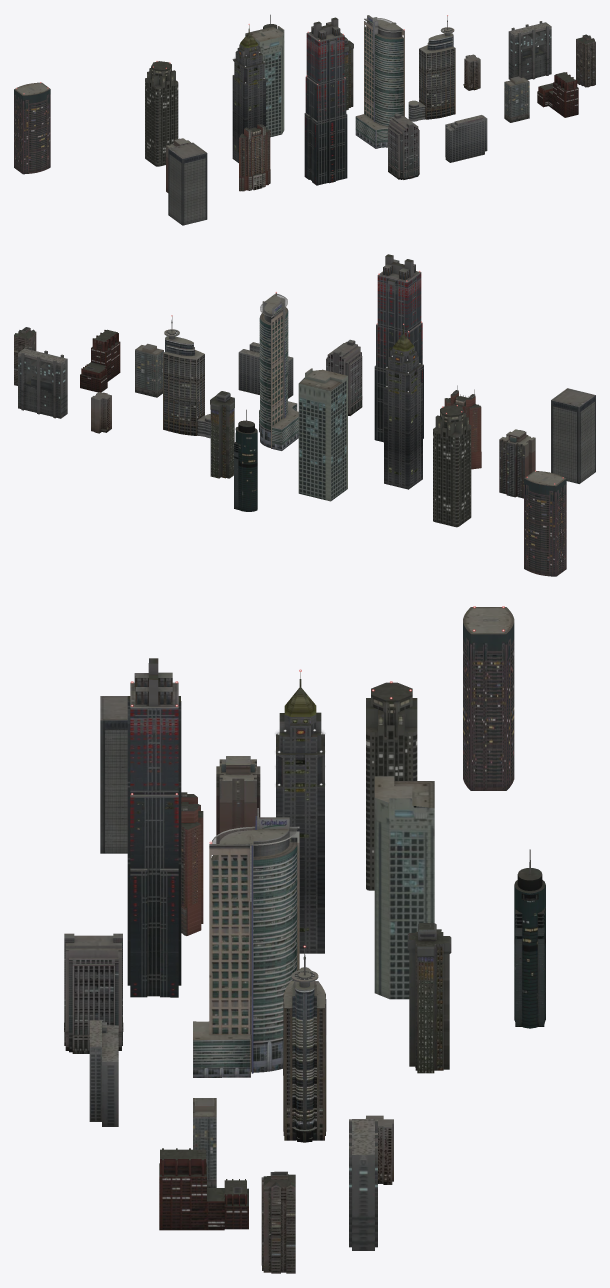
Rendered from asian_themed_low_poly_night_city_buildings.glb.
The picture shows the model from 3 angles, top to bottom: view 1: azimuth 30°, elevation 25°; view 2: azimuth 150°, elevation 25°; view 3: azimuth 270°, elevation 25°; orthographic projection. The views are drawn at different scales.
Visible parts, largest first — view 1: BACKGROUND_BUILDINGS_1.009, BACKGROUND_BUILDING_2, BACKGROUND_BUILDINGS_1, BACKGROUND_BUILDINGS_1.007, BACKGROUND_BUILDING_2.008, BACKGROUND_BUILDINGS_1.008, BACKGROUND_BUILDINGS_1.002, BACKGROUND_BUILDING_2.007, BACKGROUND_BUILDING_2.005, BACKGROUND_BUILDINGS_1.004, BACKGROUND_BUILDING_2.001, BACKGROUND_BUILDING_2.002 (+5 smaller); view 2: BACKGROUND_BUILDING_2.007, BACKGROUND_BUILDINGS_1.008, BACKGROUND_BUILDINGS_1.009, BACKGROUND_BUILDING_2, BACKGROUND_BUILDING_2.008, BACKGROUND_BUILDINGS_1.007, BACKGROUND_BUILDINGS_1, BACKGROUND_BUILDINGS_1.002, BACKGROUND_BUILDING_2.005, BACKGROUND_BUILDINGS_1.001, BACKGROUND_BUILDINGS_1.003, BACKGROUND_BUILDINGS_1.006 (+7 smaller); view 3: BACKGROUND_BUILDING_2, BACKGROUND_BUILDINGS_1.009, BACKGROUND_BUILDING_2.007, BACKGROUND_BUILDINGS_1.007, BACKGROUND_BUILDINGS_1.008, BACKGROUND_BUILDINGS_1, BACKGROUND_BUILDING_2.001, BACKGROUND_BUILDINGS_1.006, BACKGROUND_BUILDING_2.004, BACKGROUND_BUILDING_2.008, BACKGROUND_BUILDINGS_1.001, BACKGROUND_BUILDINGS_1.002 (+7 smaller).
Boxes of the visible parts, bbox=[...] form: BACKGROUND_BUILDINGS_1.009: bbox=[304, 17, 347, 185]; BACKGROUND_BUILDING_2: bbox=[355, 15, 404, 148]; BACKGROUND_BUILDINGS_1: bbox=[408, 16, 455, 121]; BACKGROUND_BUILDINGS_1.007: bbox=[14, 82, 50, 174]; BACKGROUND_BUILDING_2.008: bbox=[145, 61, 178, 166]; BACKGROUND_BUILDINGS_1.008: bbox=[232, 25, 265, 162]; BACKGROUND_BUILDINGS_1.002: bbox=[168, 142, 207, 225]; BACKGROUND_BUILDING_2.007: bbox=[245, 26, 284, 137]; BACKGROUND_BUILDING_2.005: bbox=[508, 21, 551, 80]; BACKGROUND_BUILDINGS_1.004: bbox=[239, 124, 270, 191]; BACKGROUND_BUILDING_2.001: bbox=[388, 113, 419, 179]; BACKGROUND_BUILDING_2.002: bbox=[445, 115, 487, 162]; BACKGROUND_BUILDING_2.007: bbox=[298, 368, 347, 501]; BACKGROUND_BUILDINGS_1.008: bbox=[384, 325, 422, 489]; BACKGROUND_BUILDINGS_1.009: bbox=[374, 254, 423, 442]; BACKGROUND_BUILDING_2: bbox=[259, 293, 298, 450]; BACKGROUND_BUILDING_2.008: bbox=[433, 405, 471, 527]; BACKGROUND_BUILDINGS_1.007: bbox=[524, 471, 566, 576]; BACKGROUND_BUILDINGS_1: bbox=[163, 316, 210, 438]; BACKGROUND_BUILDINGS_1.002: bbox=[551, 388, 595, 483]; BACKGROUND_BUILDING_2.005: bbox=[18, 346, 67, 418]; BACKGROUND_BUILDINGS_1.001: bbox=[234, 409, 257, 511]; BACKGROUND_BUILDINGS_1.003: bbox=[499, 429, 535, 498]; BACKGROUND_BUILDINGS_1.006: bbox=[210, 391, 234, 478]; BACKGROUND_BUILDING_2: bbox=[193, 808, 299, 1077]; BACKGROUND_BUILDINGS_1.009: bbox=[127, 658, 181, 997]; BACKGROUND_BUILDING_2.007: bbox=[374, 776, 434, 999]; BACKGROUND_BUILDINGS_1.007: bbox=[463, 607, 514, 790]; BACKGROUND_BUILDINGS_1.008: bbox=[276, 672, 324, 953]; BACKGROUND_BUILDINGS_1: bbox=[283, 947, 326, 1142]; BACKGROUND_BUILDING_2.001: bbox=[64, 933, 123, 1053]; BACKGROUND_BUILDINGS_1.006: bbox=[407, 923, 451, 1073]; BACKGROUND_BUILDING_2.004: bbox=[159, 1148, 248, 1230]; BACKGROUND_BUILDING_2.008: bbox=[366, 682, 417, 890]; BACKGROUND_BUILDINGS_1.001: bbox=[514, 849, 545, 1028]; BACKGROUND_BUILDINGS_1.002: bbox=[100, 696, 127, 853].
Size of the model in its own units: 1049 by 301 by 419.
Materials: 4 (4 with a texture image).
